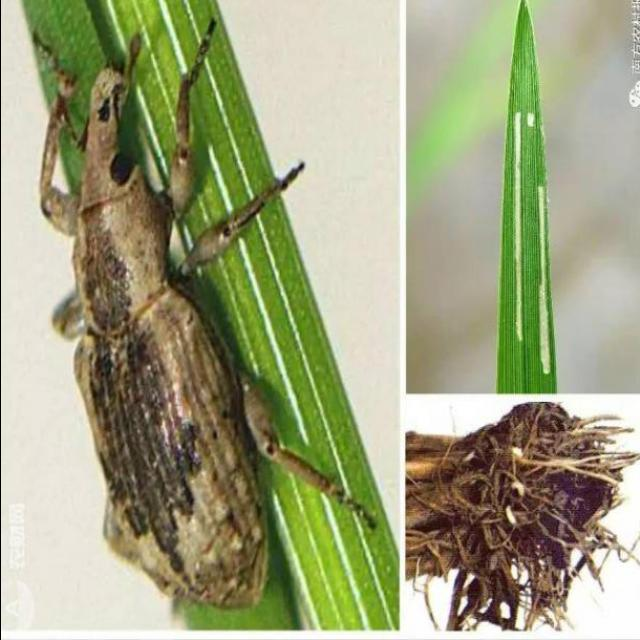ricebug: (39, 26, 369, 610)
